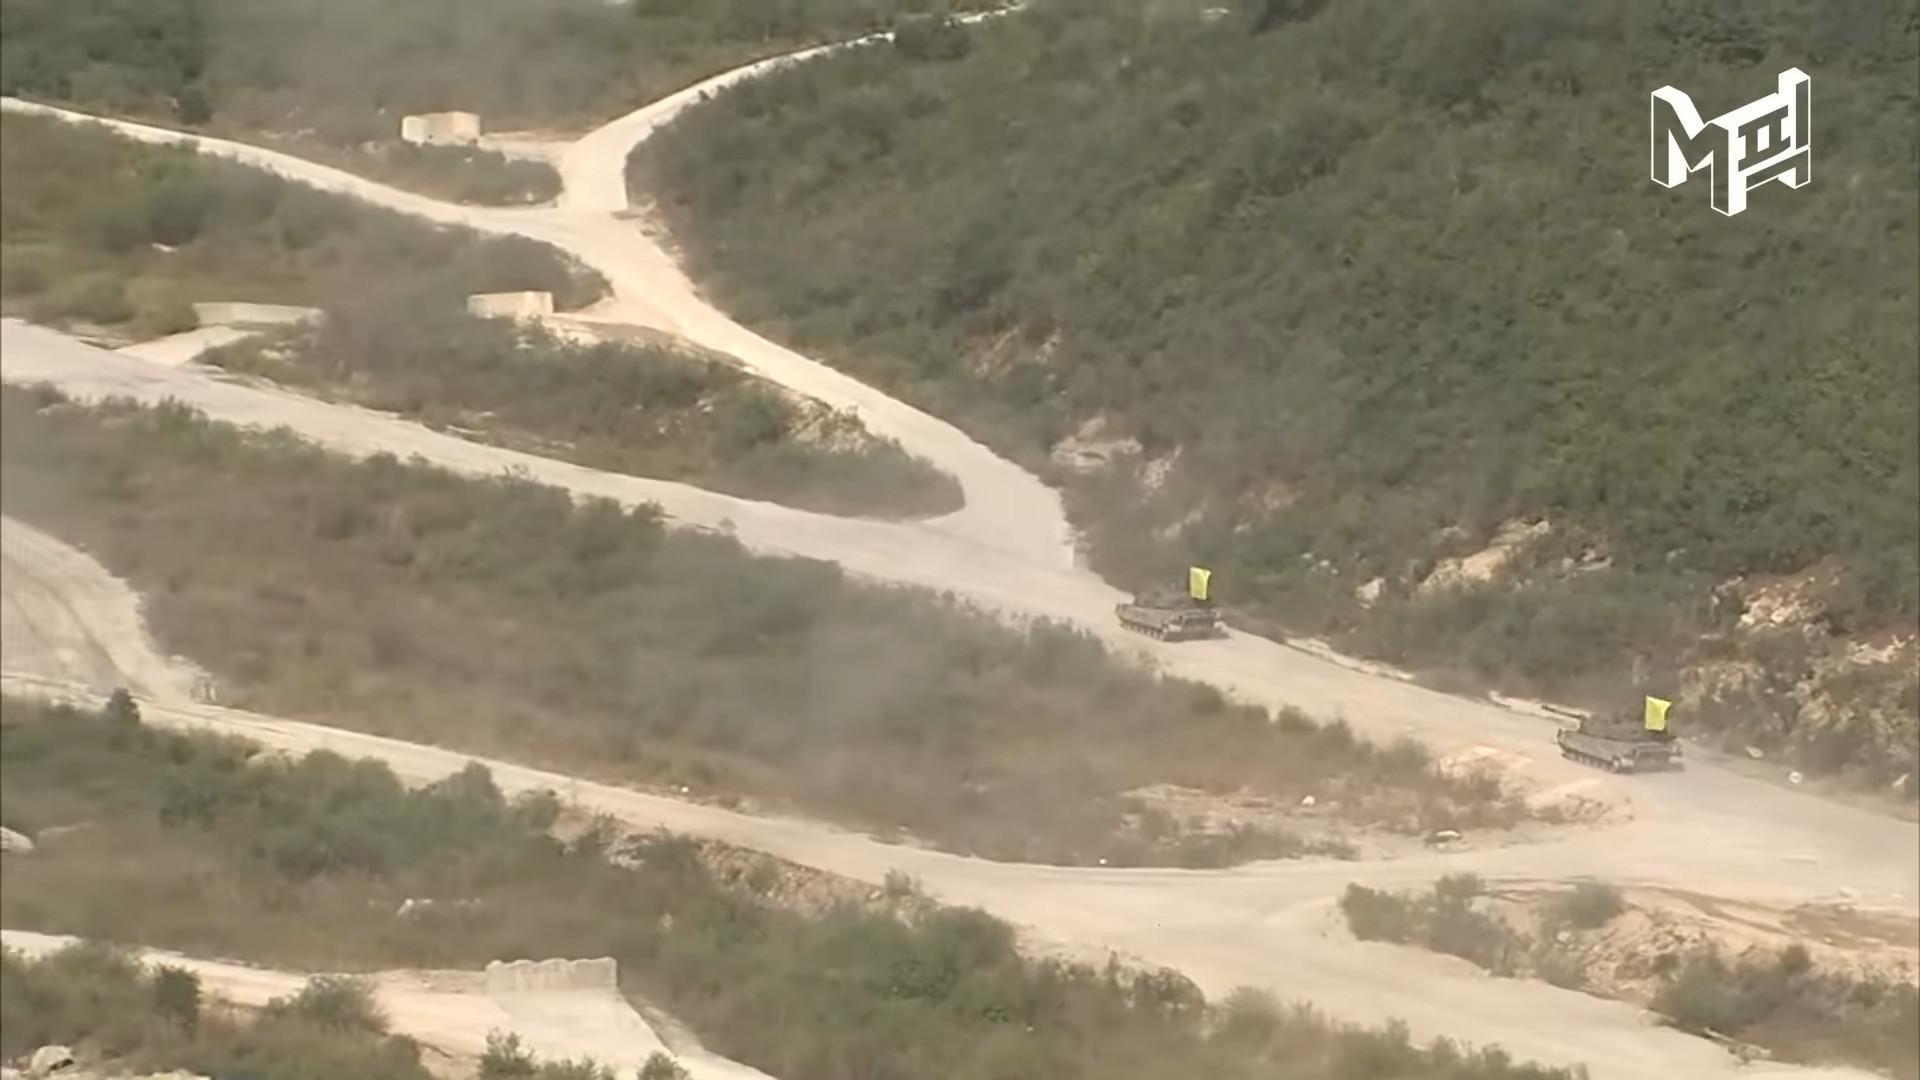tank: (1542, 704, 1683, 774), (1114, 582, 1225, 641)
